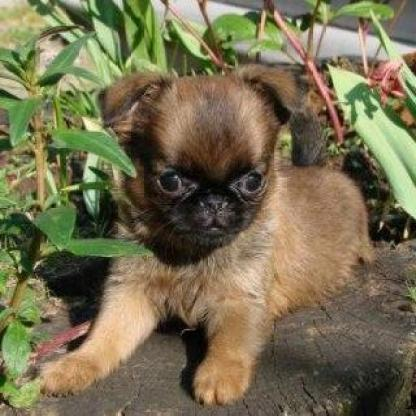Brabancon_griffon: (12, 63, 374, 401)
